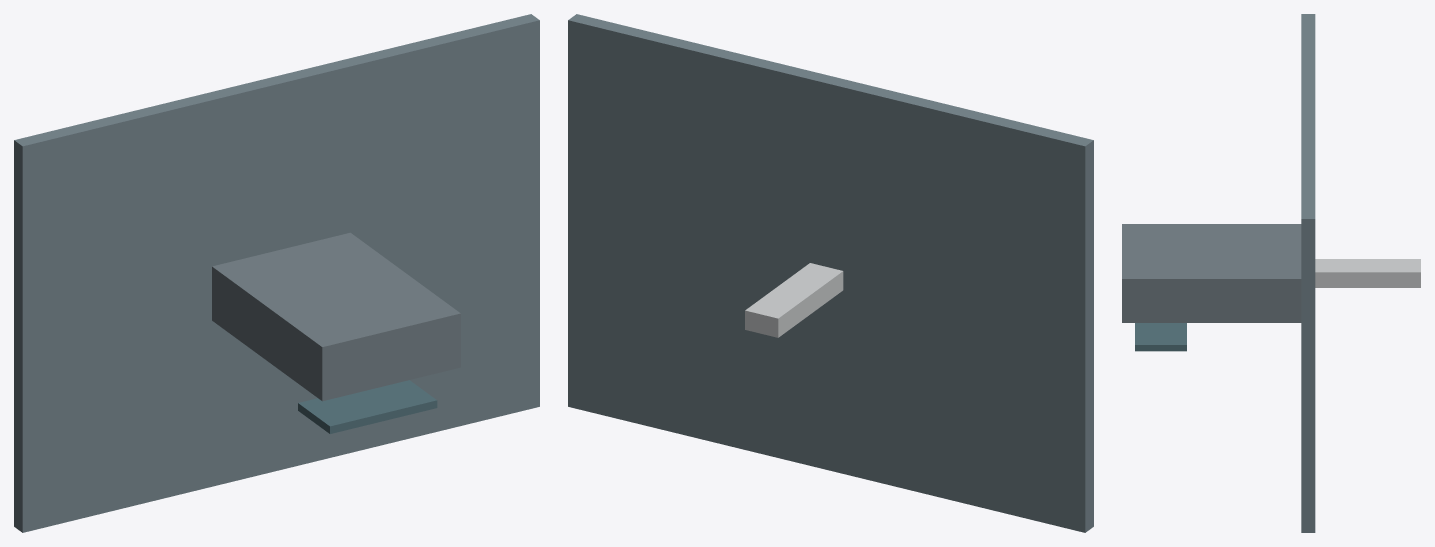
The model's file is glucose-meter-medium.glb.
The picture shows the model from 3 angles, left to right: view 1: azimuth 30°, elevation 25°; view 2: azimuth 150°, elevation 25°; view 3: azimuth 270°, elevation 25°; orthographic projection. The views are drawn at different scales.
Visible parts, largest first — view 1: presentation_base_detail, meter_body, meter_display_bezel_detail; view 2: presentation_base_detail, test_strip; view 3: meter_body, presentation_base_detail, test_strip, meter_display_bezel_detail.
Part boxes in pixels (bbox=[...]): presentation_base_detail: bbox=[14, 14, 539, 532]; meter_body: bbox=[212, 232, 460, 401]; meter_display_bezel_detail: bbox=[298, 380, 437, 433]; presentation_base_detail: bbox=[568, 14, 1093, 532]; test_strip: bbox=[745, 263, 843, 337]; meter_body: bbox=[1122, 224, 1301, 322]; presentation_base_detail: bbox=[1301, 14, 1315, 532]; test_strip: bbox=[1315, 259, 1420, 287]; meter_display_bezel_detail: bbox=[1135, 323, 1186, 351].
Bounding box in the file's own units: 2.8 × 2 × 1.72.
